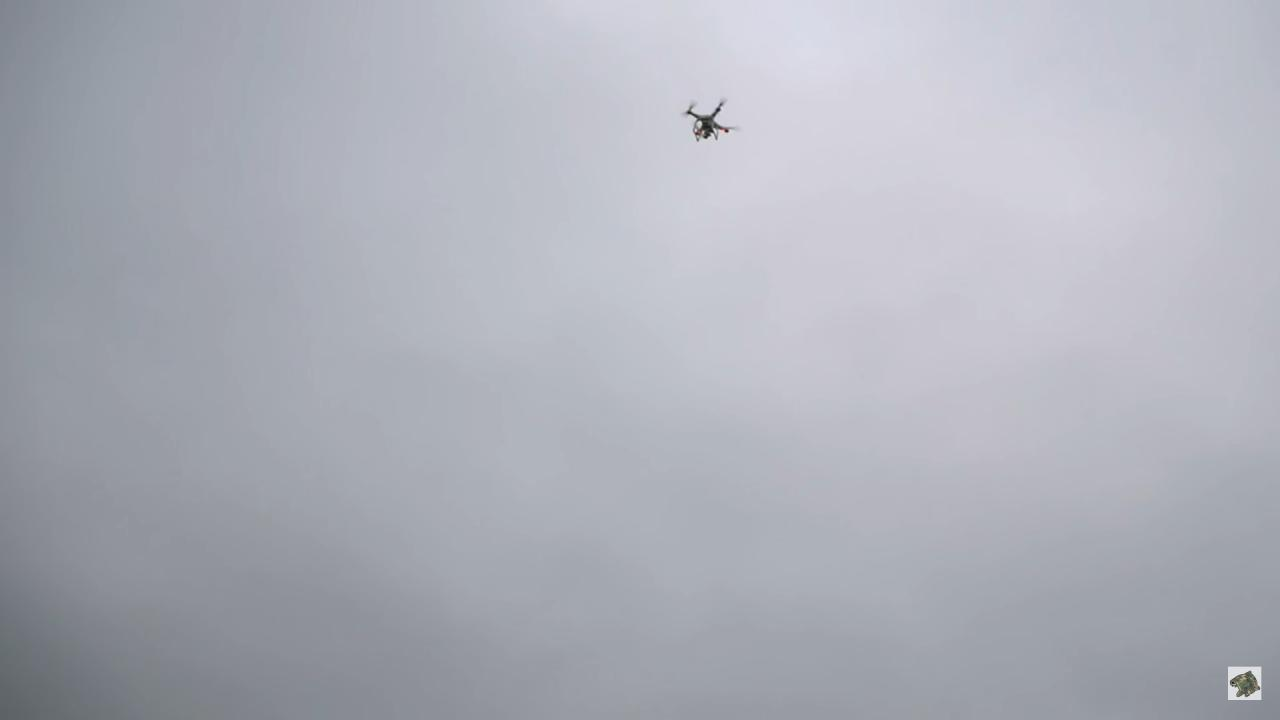Drone: (674, 92, 741, 151)
